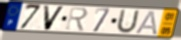7: (18, 3, 43, 31), (93, 7, 111, 34)
A: (134, 10, 159, 36)
R: (64, 7, 89, 33)
U: (114, 8, 141, 35)
V: (42, 5, 67, 32)
